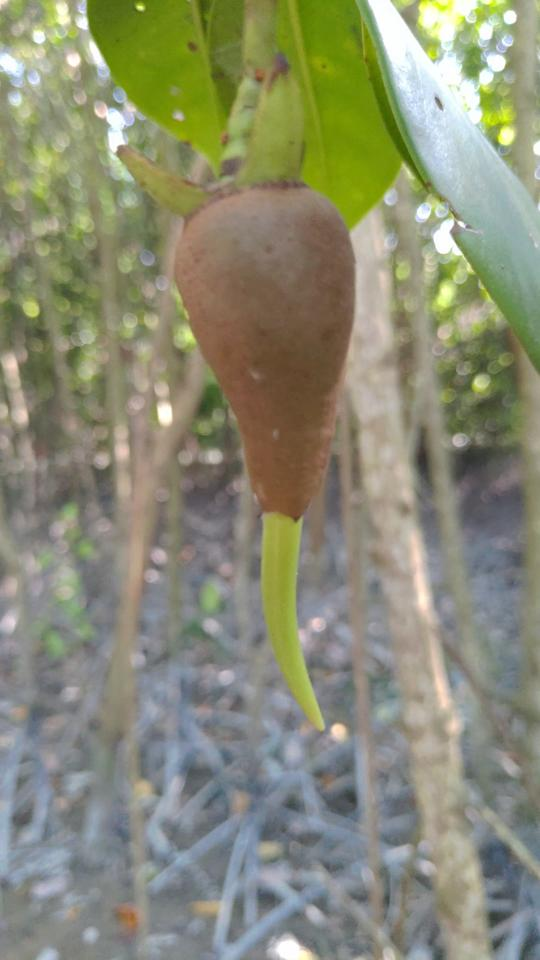mentah: (154, 147, 385, 758)
